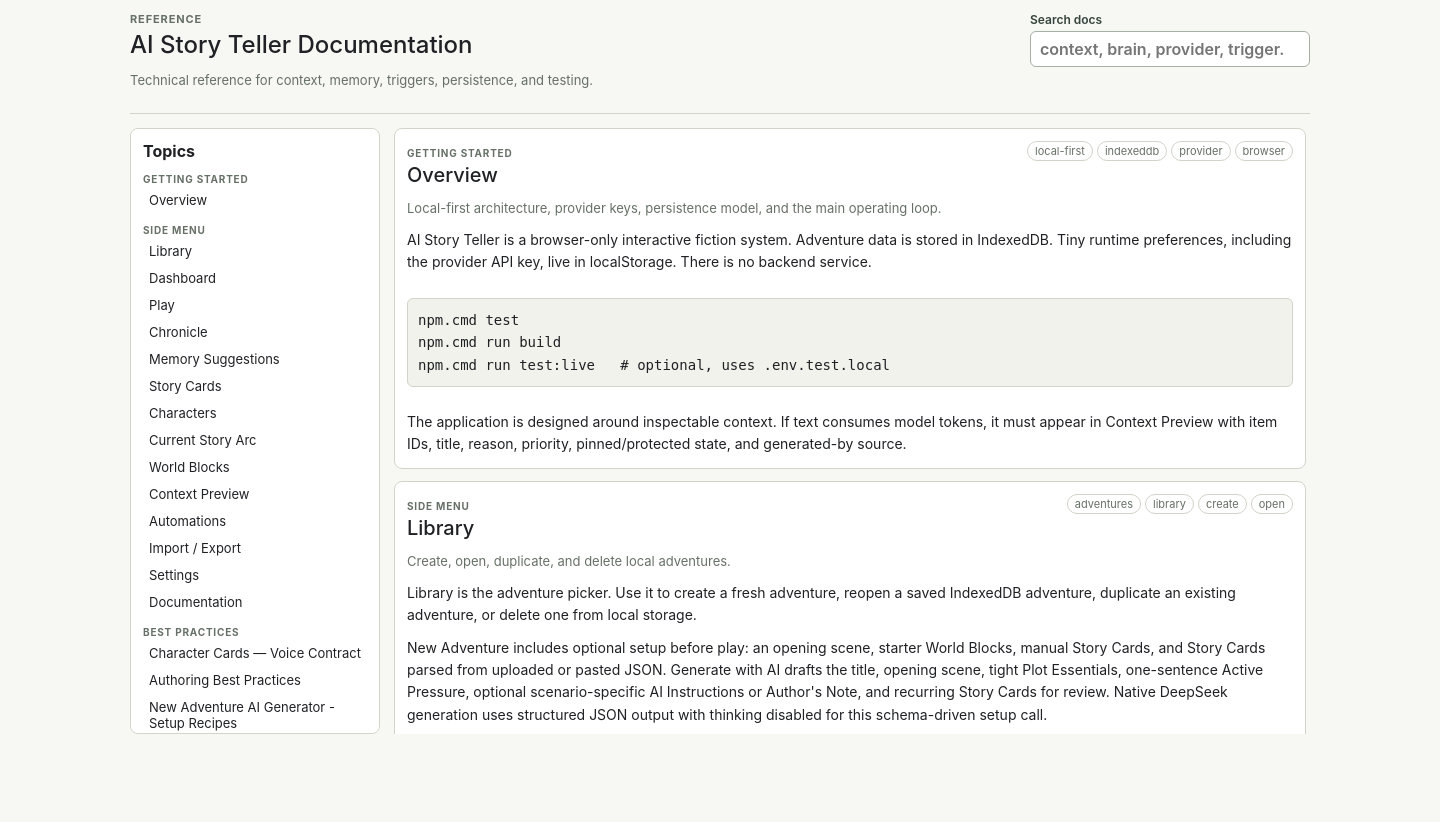
Test: HelpPage documentation UI › documents every sidebar destination as its own searchable topic
Expected: the link "Library" is shown, [149, 243, 192, 259]
Expected: the link "Dashboard" is shown, [149, 270, 216, 286]
Type "chronicle" into the search field labelled "Search docs" at (1170, 49), box [1030, 31, 1310, 67]
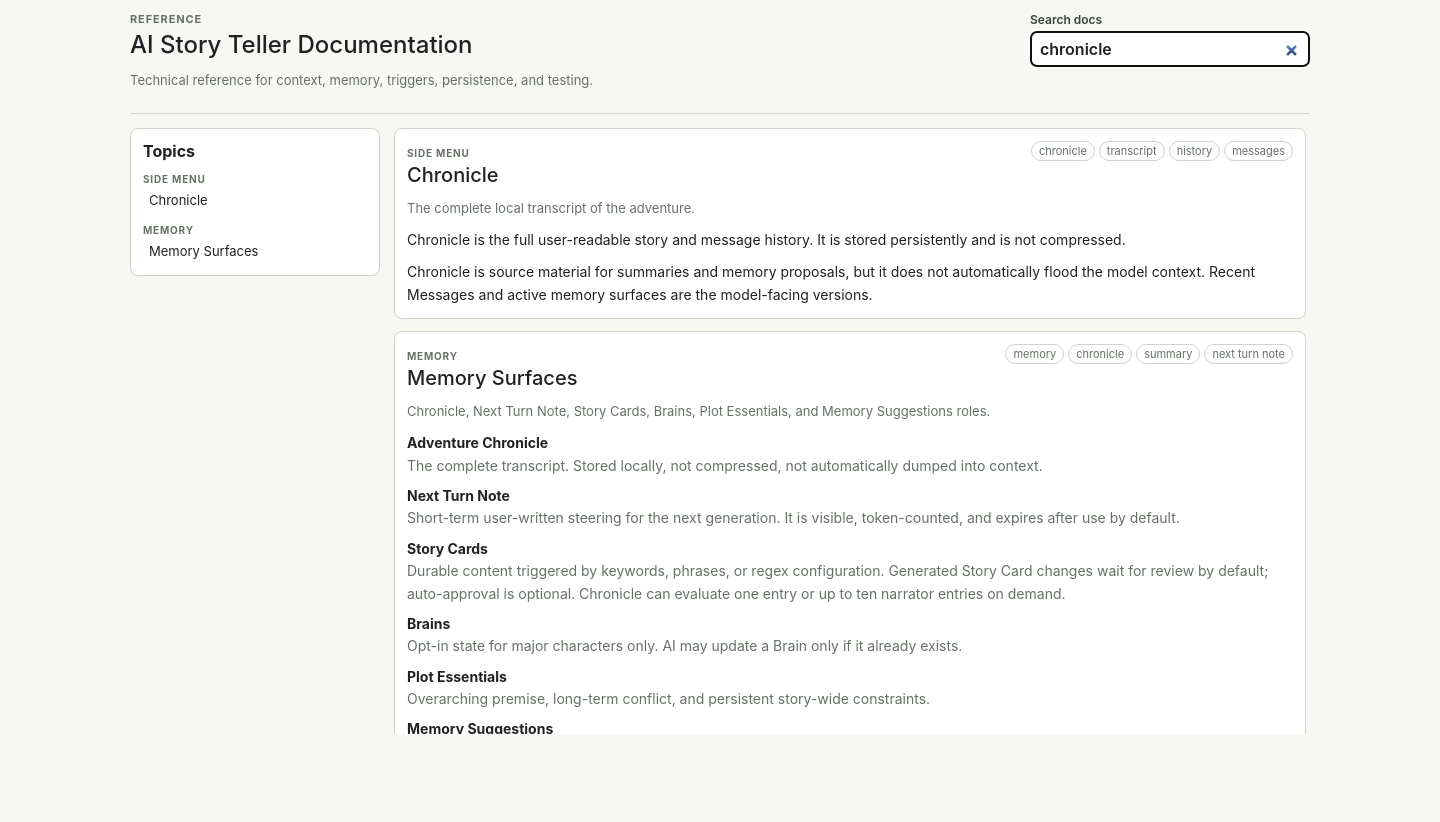
Expected: the link "Chronicle" is shown, [149, 192, 208, 208]
Result: the text "The complete local transcript of the adventure." is shown at [407, 200, 695, 216]
